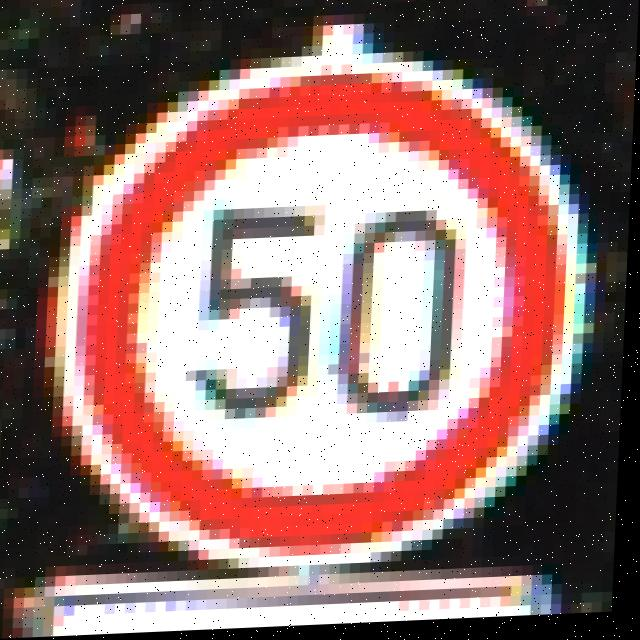speed_limit_50: (42, 45, 609, 556)
